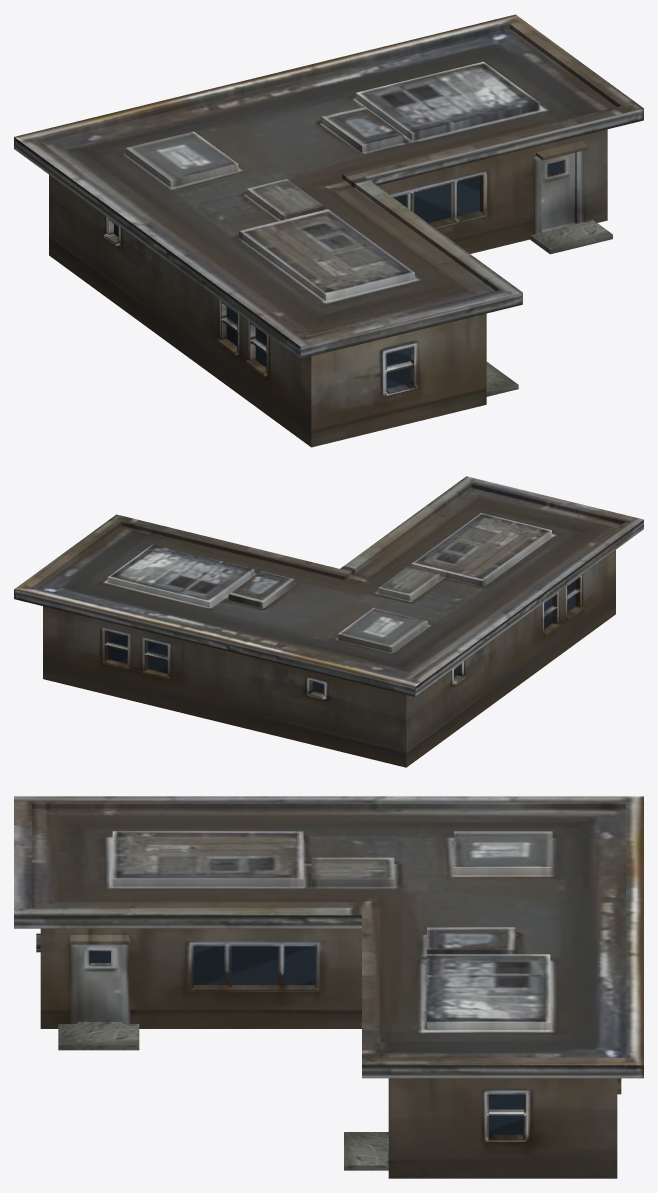
Rendered from 2civliving_cad.glb.
3 renders of one model, top to bottom at view 1: azimuth 30°, elevation 25°; view 2: azimuth 150°, elevation 25°; view 3: azimuth 270°, elevation 25°, orthographic. The views are drawn at different scales.
Visible parts, largest first — view 1: Box02; view 2: Box02; view 3: Box02.
Boxes of the visible parts, x1,y1,x2,y2 form: Box02: [14, 14, 643, 447]; Box02: [14, 476, 643, 767]; Box02: [14, 796, 643, 1178].
Size of the model in its own units: 14.11 by 3.15 by 13.97.
1 material, 1 textured.
